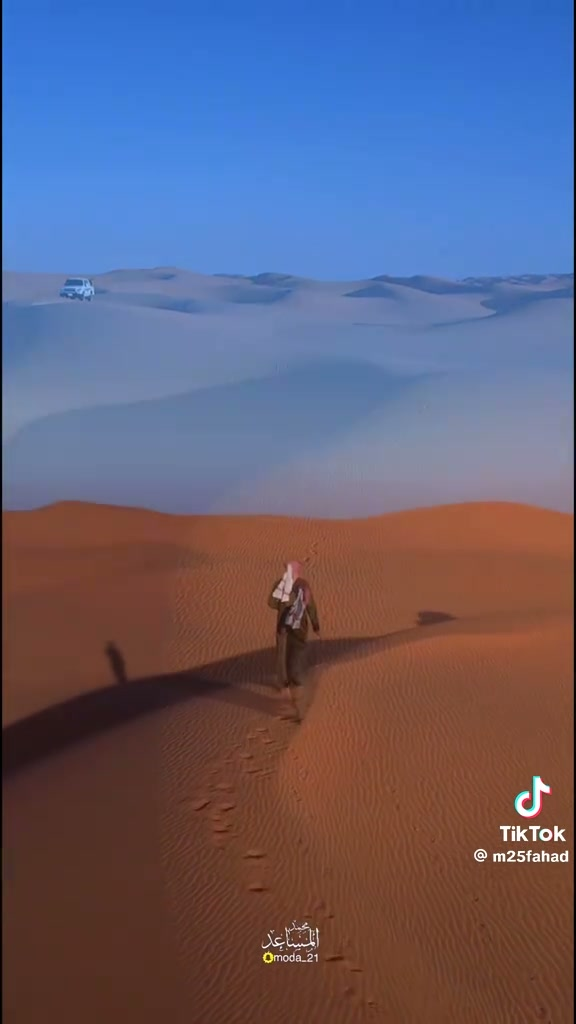human_footprint: (194, 723, 287, 892), (181, 727, 269, 848), (303, 899, 381, 1019), (304, 899, 380, 1018), (310, 899, 380, 1018), (313, 899, 379, 1018), (268, 561, 319, 712), (202, 731, 265, 847), (208, 740, 261, 846), (323, 927, 379, 1016), (182, 784, 235, 847), (207, 778, 236, 848), (237, 726, 275, 776), (242, 847, 271, 892), (208, 801, 234, 847), (277, 688, 302, 724), (209, 801, 235, 834), (238, 747, 261, 775), (303, 540, 319, 568), (256, 726, 276, 745), (185, 797, 210, 812)
